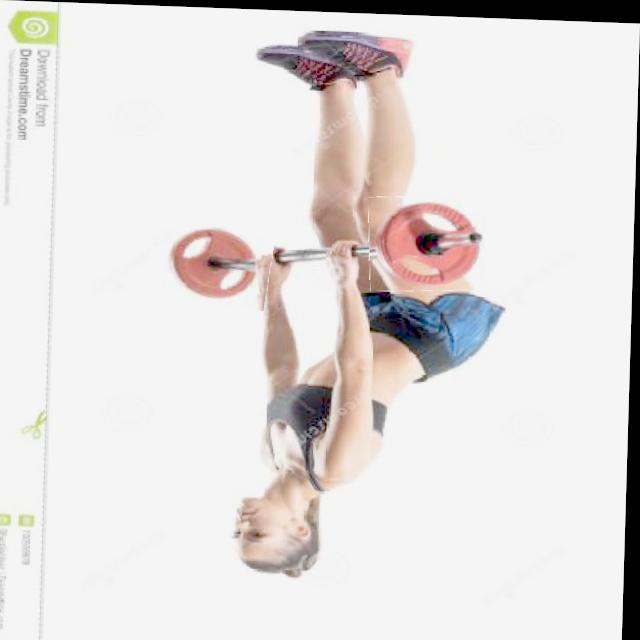barbell: (370, 190, 504, 291), (149, 214, 277, 307)
